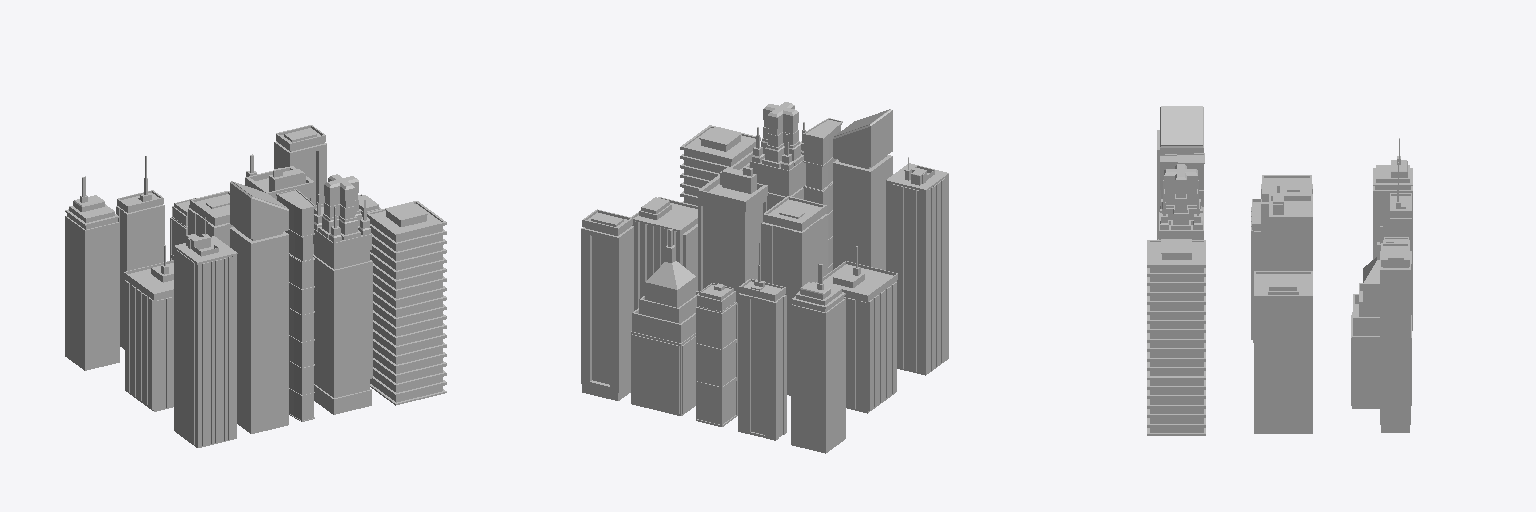
The model's file is citytest.obj.
3 renders of one model, left to right at view 1: azimuth 30°, elevation 25°; view 2: azimuth 150°, elevation 25°; view 3: azimuth 270°, elevation 25°, orthographic.
Parts seen in each view (by area): view 1: Highrise_19.011, Highrise_15.011, Highrise_18.011, Highrise_16.011, Highrise_1.011, Highrise_6.011, Highrise_17.011, Highrise_5.011, Highrise_4.011, Highrise_7.011, Highrise_10.011, Highrise_3.011; view 2: Highrise_15.011, Highrise_4.011, Highrise_9.011, Highrise_1.011, Highrise_16.011, Highrise_6.011, Highrise_5.011, Highrise_10.011, Highrise_7.011, Highrise_3.011, Highrise_2.011, Highrise_18.011 (+2 smaller); view 3: Highrise_19.011, Highrise_2.011, Highrise_4.011, Highrise_9.011, Highrise_10.011, Highrise_18.011, Highrise_1.011, Highrise_16.011, Highrise_7.011, Highrise_5.011, Highrise_6.011, Highrise_17.011.
Boxes of the visible parts, box(x1,y1,x2,y2) form: Highrise_19.011: box(367, 201, 446, 405); Highrise_15.011: box(174, 217, 237, 447); Highrise_18.011: box(313, 174, 372, 414); Highrise_16.011: box(230, 181, 288, 433); Highrise_1.011: box(65, 176, 119, 370); Highrise_6.011: box(124, 245, 173, 411); Highrise_17.011: box(276, 189, 315, 421); Highrise_5.011: box(116, 156, 164, 349); Highrise_4.011: box(274, 125, 326, 205); Highrise_7.011: box(188, 191, 233, 246); Highrise_10.011: box(245, 166, 314, 253); Highrise_3.011: box(170, 198, 195, 260); Highrise_15.011: box(886, 157, 948, 375); Highrise_4.011: box(581, 209, 633, 400); Highrise_9.011: box(631, 229, 698, 415); Highrise_1.011: box(791, 264, 845, 453); Highrise_16.011: box(833, 109, 892, 269); Highrise_6.011: box(816, 246, 897, 413); Highrise_5.011: box(738, 243, 786, 440); Highrise_10.011: box(698, 167, 767, 302); Highrise_7.011: box(761, 196, 827, 395); Highrise_3.011: box(696, 283, 737, 426); Highrise_2.011: box(631, 197, 697, 310); Highrise_18.011: box(750, 102, 805, 210); Highrise_19.011: box(1147, 239, 1205, 435); Highrise_2.011: box(1254, 271, 1312, 433); Highrise_4.011: box(1380, 243, 1410, 432); Highrise_9.011: box(1351, 226, 1411, 408); Highrise_10.011: box(1269, 182, 1312, 270); Highrise_18.011: box(1158, 164, 1203, 239); Highrise_1.011: box(1373, 138, 1412, 330); Highrise_16.011: box(1160, 106, 1203, 206); Highrise_7.011: box(1261, 175, 1312, 270); Highrise_5.011: box(1390, 162, 1411, 250); Highrise_6.011: box(1251, 199, 1260, 342); Highrise_17.011: box(1160, 153, 1204, 211).
Size of the model in its own units: 68.59 by 62.63 by 63.46.